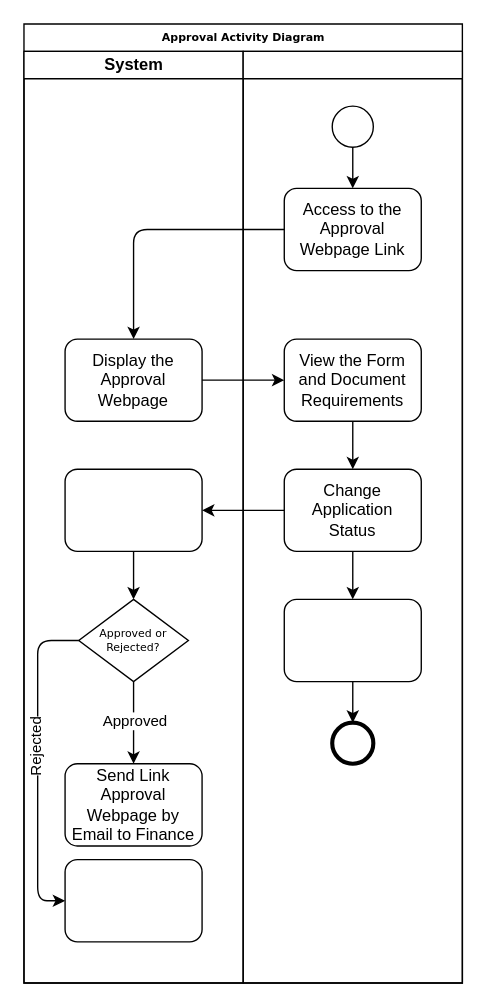
Image size: 486x1007. Some labels were removed from this diagram. Here are the shapes that lost their labels. From the top down, the box of each, then its label:
(64, 468, 202, 551): Save Approval to Database
(242, 50, 462, 983): HR
(283, 598, 421, 682): Show History Webpage the Application Status
(64, 858, 202, 942): Send Notification of Application Rejected to Employee
